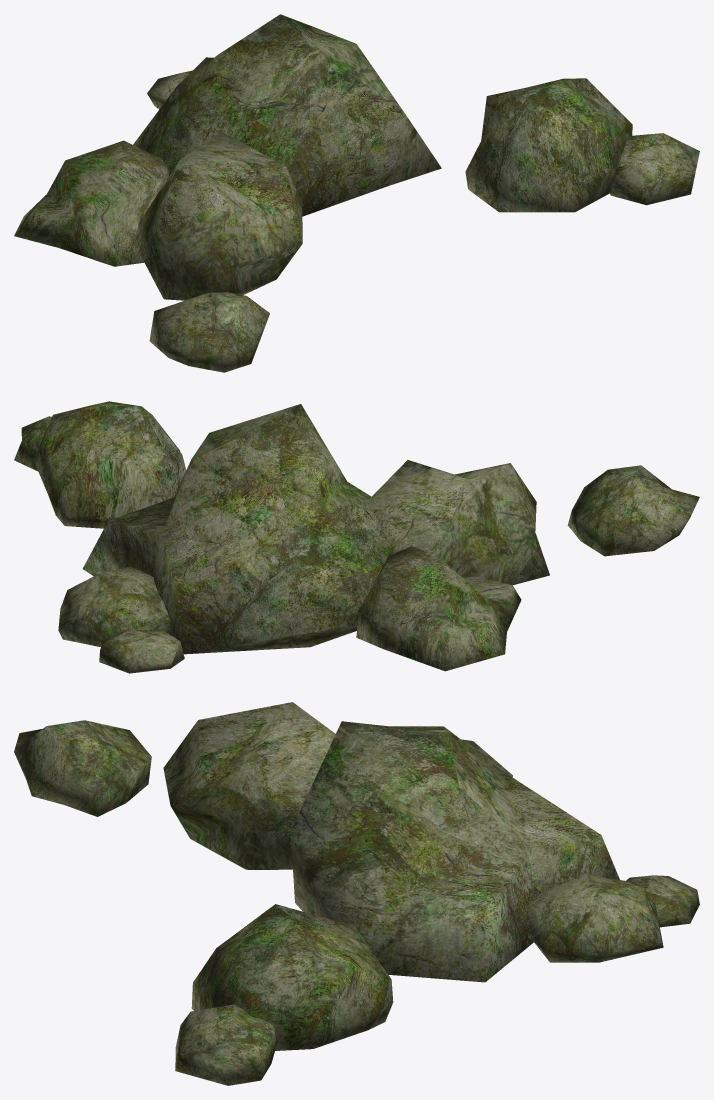
File: stone_012.FBX
3 views of the same model, one above another, from view 1: azimuth 30°, elevation 25°; view 2: azimuth 150°, elevation 25°; view 3: azimuth 270°, elevation 25° (orthographic). The views are drawn at different scales.
Visible parts, largest first — view 1: stone_012_02; view 2: stone_012_02; view 3: stone_012_02.
Part boxes in pixels (left/top/right/bottom): stone_012_02: left=14, top=14, right=699, bottom=372; stone_012_02: left=14, top=401, right=699, bottom=673; stone_012_02: left=14, top=702, right=699, bottom=1085.
Size of the model in its own units: 1.64 by 0.4931 by 1.44.
